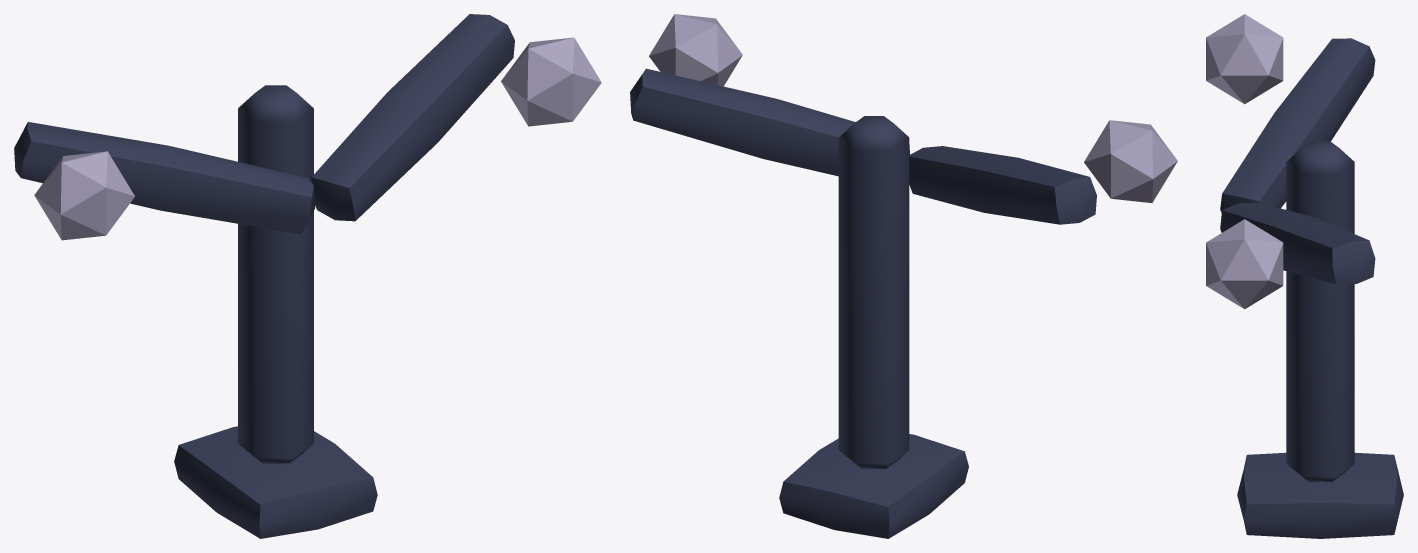
Rendered from monitor-arm.glb.
3 views of the same model, side by side, from view 1: azimuth 30°, elevation 25°; view 2: azimuth 150°, elevation 25°; view 3: azimuth 270°, elevation 25° (orthographic). The views are drawn at different scales.
Visible parts, largest first — view 1: part (×6); view 2: part (×6); view 3: part (×6).
Boxes of the visible parts, box(x1,y1,x2,y2) form: part (×6): box(14, 14, 601, 538); part (×6): box(630, 14, 1177, 538); part (×6): box(1206, 14, 1403, 538).
Bounding box in the file's own units: 0.7421 × 0.571 × 0.261.
Materials: 1 (1 with a texture image).
